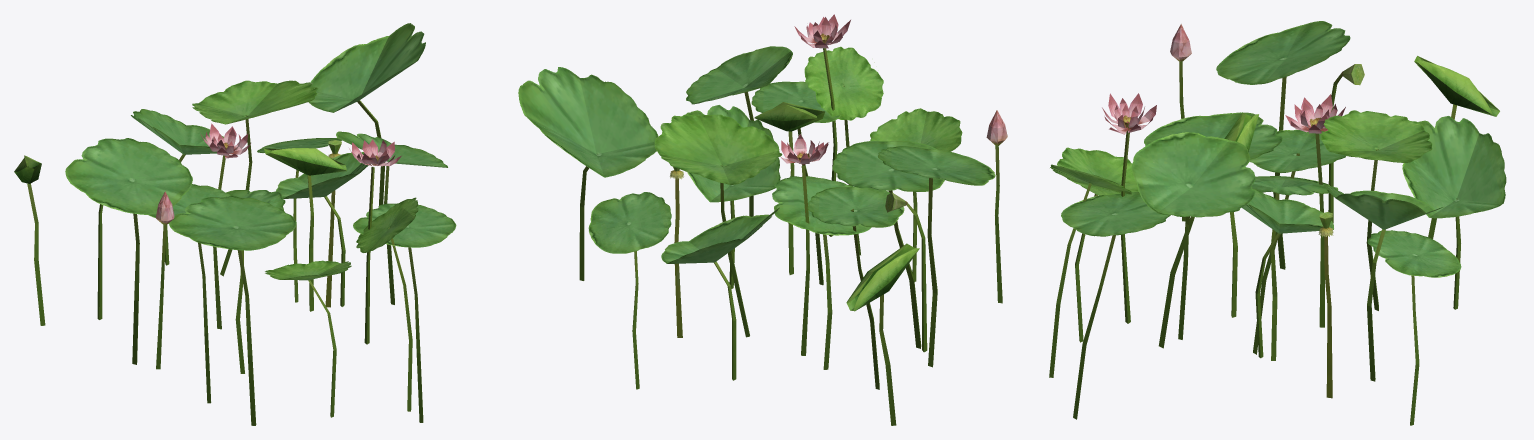
Rendered from Scene_Grass_HeHua_4.FBX.
The picture shows the model from 3 angles, left to right: view 1: azimuth 30°, elevation 25°; view 2: azimuth 150°, elevation 25°; view 3: azimuth 270°, elevation 25°; orthographic projection. The views are drawn at different scales.
Visible parts, largest first — view 1: Scene_Grass_HeHua_4; view 2: Scene_Grass_HeHua_4; view 3: Scene_Grass_HeHua_4.
Boxes of the visible parts, box(x1,y1,x2,y2) form: Scene_Grass_HeHua_4: box(14, 23, 456, 425); Scene_Grass_HeHua_4: box(518, 14, 1007, 425); Scene_Grass_HeHua_4: box(1049, 21, 1506, 425).
Bounding box in the file's own units: 333 × 215 × 304.
